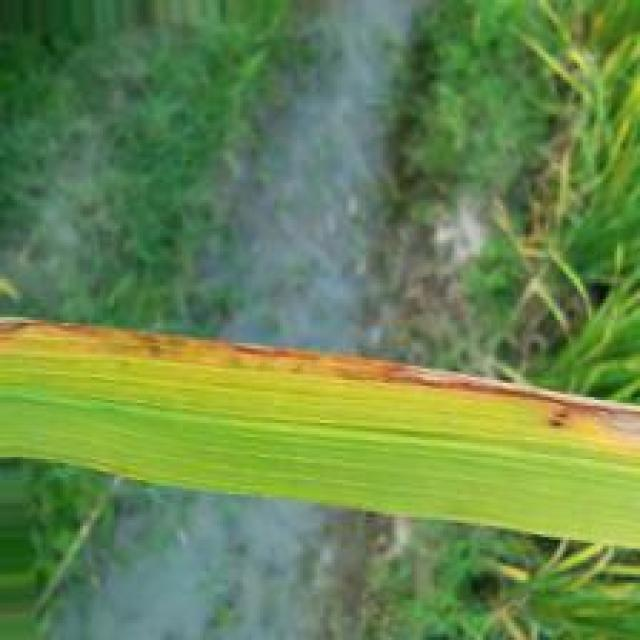Bacterial_Leaf_Blight: (331, 356, 640, 453), (0, 317, 341, 382)
